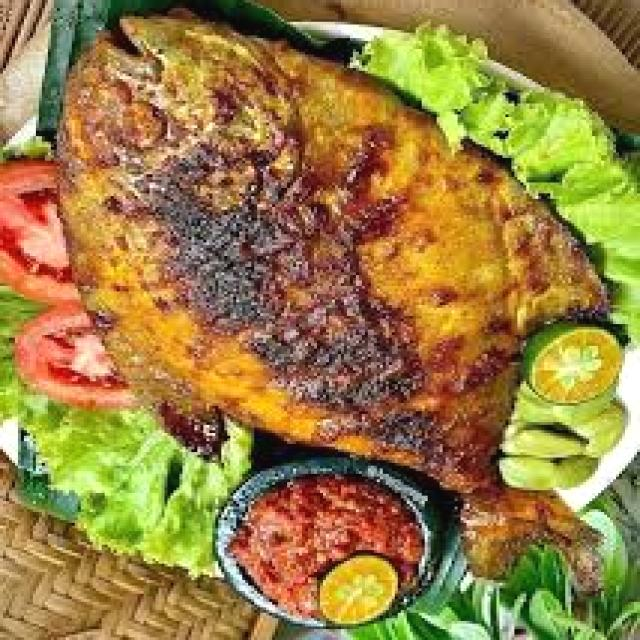ikan bakar: (57, 14, 610, 591)
